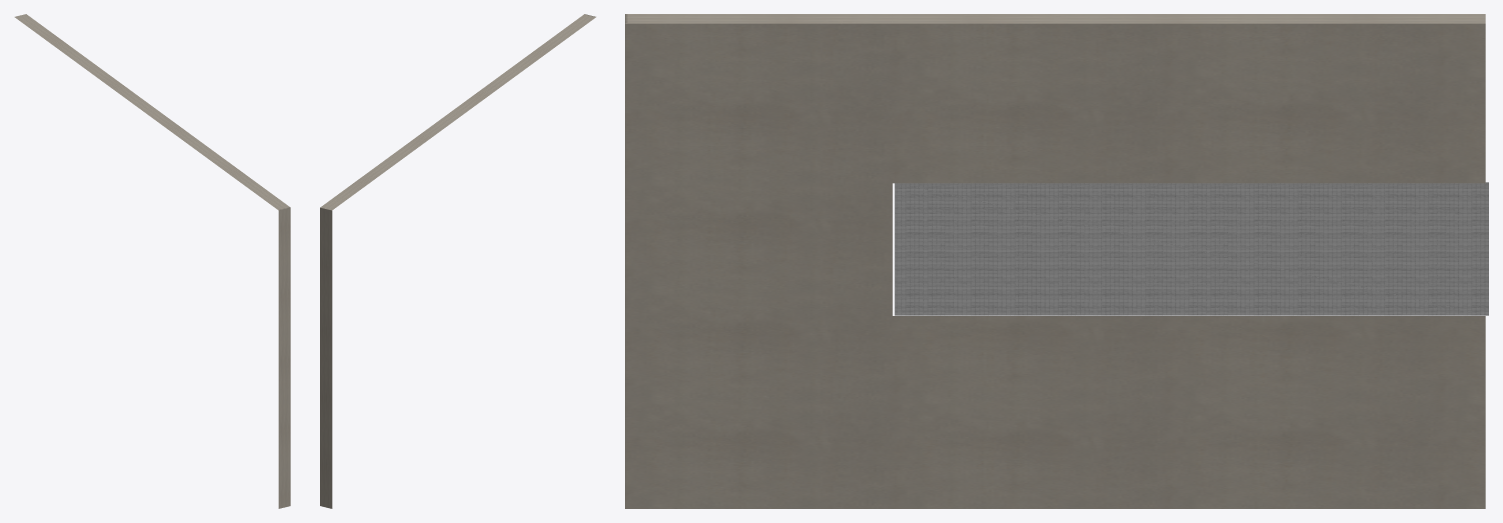
Rendered from leftwall.glb.
3 views of the same model, side by side, from view 1: azimuth 30°, elevation 25°; view 2: azimuth 150°, elevation 25°; view 3: azimuth 270°, elevation 25° (orthographic). The views are drawn at different scales.
Visible parts, largest first — view 1: WallsideL; view 2: WallsideL; view 3: WallsideL, WallsideL.001.
Boxes of the visible parts, <box> form: WallsideL: <box>14,14,290,508</box>; WallsideL: <box>320,14,595,508</box>; WallsideL: <box>625,14,1485,508</box>; WallsideL.001: <box>894,182,1488,315</box>.
Size of the model in its own units: 3.25 by 76.5 by 123.
2 materials, 2 textured.
